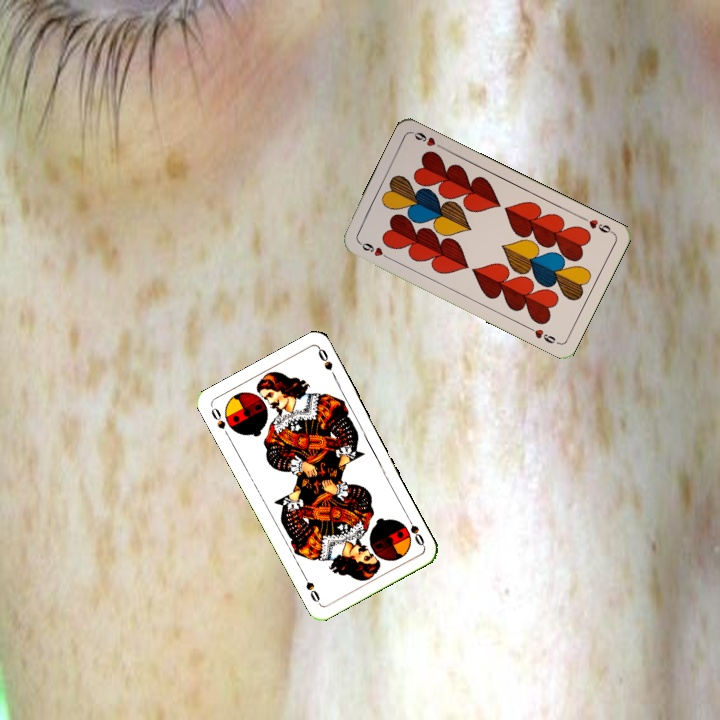H9: (355, 238, 393, 262), (578, 213, 616, 236)
SO: (402, 511, 427, 549), (207, 403, 232, 440)
